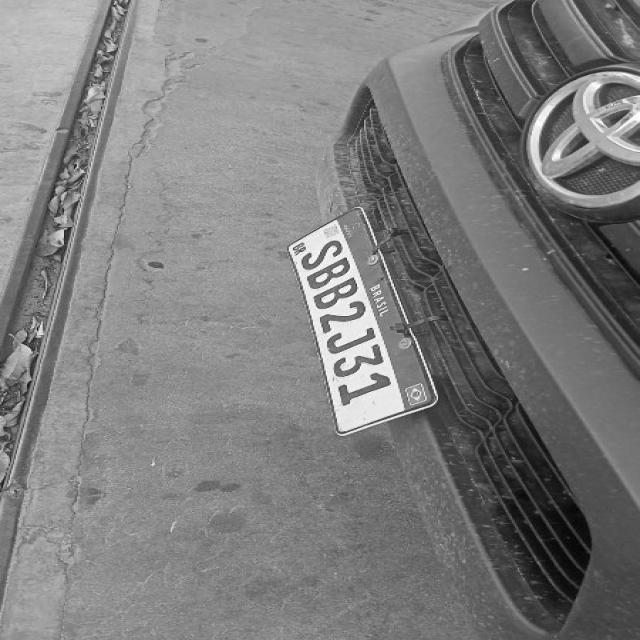placa_mercosul: (288, 205, 441, 440)
